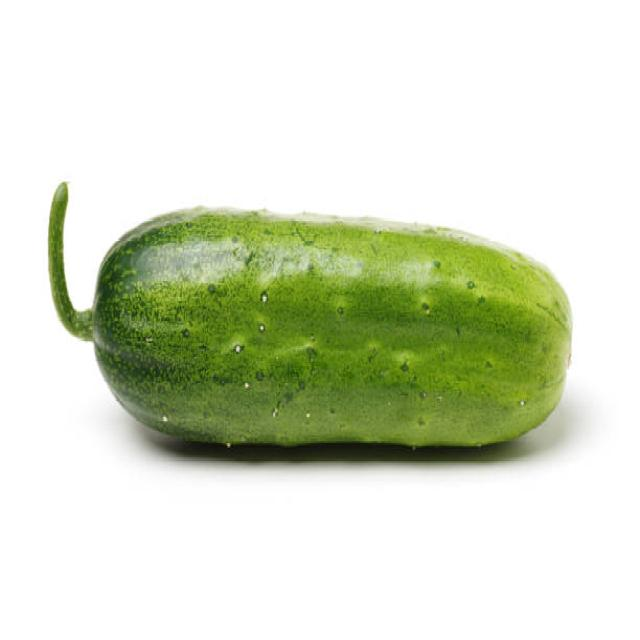cucumber: (92, 205, 572, 451)
